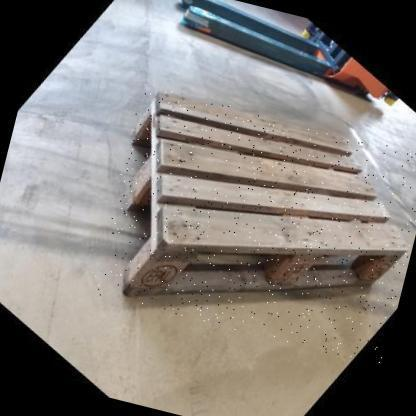pallet: (124, 86, 406, 293)
